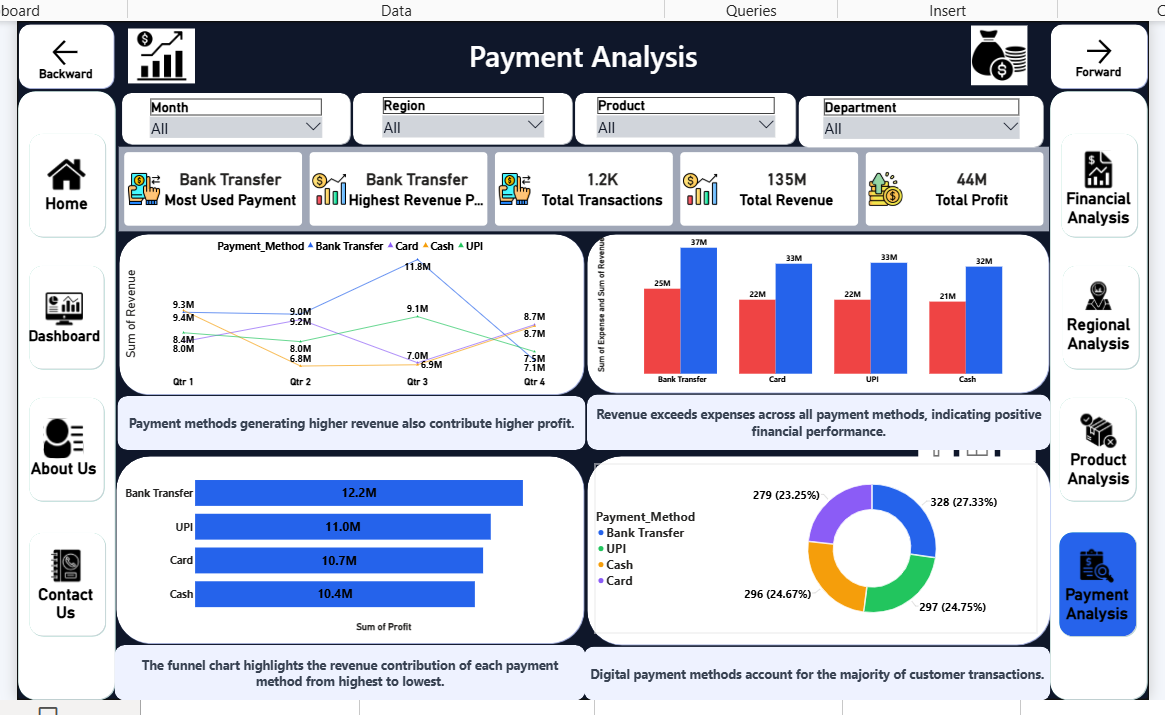

The page's visual inventory and layout, read from the dashboard file:
{"tool":"powerbi","page":{"name":"Payment Analysis Page","canvas":[5000,3000],"ordinal":5},"visuals":[{"type":"shape","box":[437.7,5.9,4122.7,295.7],"z":0},{"type":"shape","box":[0,304.9,437.4,2697.4],"z":1000},{"type":"shape","box":[4559.8,304.9,437.4,2697.4],"z":2000},{"type":"shape","box":[0,6,435.4,298.2],"z":3000},{"type":"shape","box":[4557.1,6,441.4,298.2],"z":4000},{"type":"shape","box":[430.8,2757.1,2081,245.2],"z":5000},{"type":"image","box":[490.9,35.5,295.7,242.5],"z":6000},{"type":"cardVisual","fields":{"Data":["Finance.Most Used Payment","Finance.Highest Revenue Payment","CountNonNull(Finance.Transaction_ID)","Sum(Finance.Revenue)","Sum(Finance.Profit)"]},"box":[444,550.1,4122.3,384.4],"z":7000},{"type":"shape","box":[444,1656.9,2067.8,238.6],"z":8000},{"type":"shape","box":[430.8,1915.4,2081,841.7],"z":9000},{"type":"shape","box":[444,934.5,2067.8,722.4],"z":10000},{"type":"shape","box":[2511.8,934.5,2054.5,715.8],"z":11000},{"type":"lineChart","fields":{"Series":["Finance.Payment_Method"],"Category":["Finance.Date.Variation.Date Hierarchy.Quarter"],"Y":["Sum(Finance.Revenue)"]},"box":[457.3,954.4,2041.3,662.8],"z":12000},{"type":"shape","box":[2511.8,1915.4,2061.2,848.3],"z":13000},{"type":"shape","box":[2505.2,2763.7,2061.2,238.6],"z":14000},{"type":"donutChart","fields":{"Category":["Finance.Payment_Method"],"Y":["CountNonNull(Finance.Transaction_ID)"]},"box":[2551.6,1955.1,1955.1,748.9],"z":15000},{"type":"shape","box":[2518.5,1650.3,2047.9,245.2],"z":16000},{"type":"barChart","fields":{"Category":["Finance.Payment_Method"],"Y":["Sum(Finance.Profit)"]},"box":[470.6,1955.1,1988.3,748.9],"z":17000},{"type":"clusteredColumnChart","fields":{"Y":["Sum(Finance.Expense)","Sum(Finance.Revenue)"],"Category":["Finance.Payment_Method"]},"box":[2551.6,934.5,1988.3,682.6],"z":18000},{"type":"shape","box":[457.3,311.5,1020.6,238.6],"z":19000},{"type":"shape","box":[1477.9,311.5,980.9,238.6],"z":20000},{"type":"shape","box":[3446.3,324.7,1093.5,238.6],"z":21000},{"type":"slicer","fields":{"Values":["Finance_dataset.Date.Variation.Date Hierarchy.Month"]},"box":[576.6,338,782.1,178.9],"z":22000},{"type":"slicer","fields":{"Values":["Finance_dataset.Department"]},"box":[3552.4,338,888.1,212.1],"z":23000},{"type":"image","box":[4212.4,22,249.5,264.2],"z":24000},{"type":"textbox","box":[1696.7,59.6,1610.5,198.8],"z":25000},{"type":"slicer","fields":{"Values":["Finance.Region"]},"box":[1603.9,331.4,735.7,225.3],"z":26000},{"type":"shape","box":[2458.8,311.5,987.5,238.6],"z":27000},{"type":"slicer","fields":{"Values":["Finance.Product"]},"box":[2551.6,331.4,808.6,218.7],"z":28000},{"type":"actionButton","box":[33.1,19.9,364.5,245.2],"z":29000},{"type":"actionButton","box":[4606.1,19.9,344.6,238.6],"z":30000},{"type":"shape","box":[46.4,1073.7,344.6,470.6],"z":31000},{"type":"shape","box":[46.4,490.4,351.3,470.6],"z":32000},{"type":"actionButton","box":[46.4,483.8,344.6,470.6],"z":33000},{"type":"shape","box":[46.4,2253.4,351.3,470.6],"z":34000},{"type":"shape","box":[46.4,1656.9,344.6,470.6],"z":35000},{"type":"actionButton","box":[39.8,1073.7,338,470.6],"z":36000},{"type":"actionButton","box":[26.5,1650.3,357.9,470.6],"z":37000},{"type":"actionButton","box":[46.4,2253.4,338,470.6],"z":38000},{"type":"shape","box":[4606.1,490.4,351.3,470.6],"z":39000},{"type":"shape","box":[4612.8,1073.7,351.3,470.6],"z":40000},{"type":"shape","box":[4599.5,1656.9,351.3,470.6],"z":41000},{"type":"shape","box":[4599.5,2253.4,351.3,470.6],"z":42000},{"type":"actionButton","box":[4606.1,503.7,344.6,470.6],"z":43000},{"type":"actionButton","box":[4606.1,1060.4,344.6,470.6],"z":44000},{"type":"actionButton","box":[4606.1,1656.9,344.6,470.6],"z":45000},{"type":"actionButton","box":[4599.5,2253.4,344.6,470.6],"z":46000}]}

Visuals, with their boxes on the page's 5000x3000 design canvas (x1, y1, x2, y2). These are canvas units, not pixel positions in the 1165x715 screenshot, which may show the page scaled, cropped or inside an application window:
shape: 438 6 4560 302
shape: 0 305 437 3002
shape: 4560 305 4997 3002
shape: 0 6 435 304
shape: 4557 6 4998 304
shape: 431 2757 2512 3002
image: 491 36 787 278
cardVisual - Finance.Most Used Payment x Finance.Highest Revenue Payment: 444 550 4566 934
shape: 444 1657 2512 1896
shape: 431 1915 2512 2757
shape: 444 934 2512 1657
shape: 2512 934 4566 1650
lineChart - Finance.Payment_Method x Finance.Date.Variation.Date Hierarchy.Quarter: 457 954 2499 1617
shape: 2512 1915 4573 2764
shape: 2505 2764 4566 3002
donutChart - Finance.Payment_Method x CountNonNull(Finance.Transaction_ID): 2552 1955 4507 2704
shape: 2518 1650 4566 1896
barChart - Finance.Payment_Method x Sum(Finance.Profit): 471 1955 2459 2704
clusteredColumnChart - Sum(Finance.Expense) x Sum(Finance.Revenue): 2552 934 4540 1617
shape: 457 312 1478 550
shape: 1478 312 2459 550
shape: 3446 325 4540 563
slicer - Finance_dataset.Date.Variation.Date Hierarchy.Month: 577 338 1359 517
slicer - Finance_dataset.Department: 3552 338 4440 550
image: 4212 22 4462 286
textbox: 1697 60 3307 258
slicer - Finance.Region: 1604 331 2340 557
shape: 2459 312 3446 550
slicer - Finance.Product: 2552 331 3360 550
actionButton: 33 20 398 265
actionButton: 4606 20 4951 258
shape: 46 1074 391 1544
shape: 46 490 398 961
actionButton: 46 484 391 954
shape: 46 2253 398 2724
shape: 46 1657 391 2128
actionButton: 40 1074 378 1544
actionButton: 26 1650 384 2121
actionButton: 46 2253 384 2724
shape: 4606 490 4957 961
shape: 4613 1074 4964 1544
shape: 4600 1657 4951 2128
shape: 4600 2253 4951 2724
actionButton: 4606 504 4951 974
actionButton: 4606 1060 4951 1531
actionButton: 4606 1657 4951 2128
actionButton: 4600 2253 4944 2724
